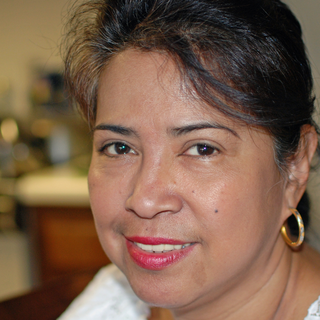eye: (169, 139, 225, 162), (93, 138, 143, 163)
